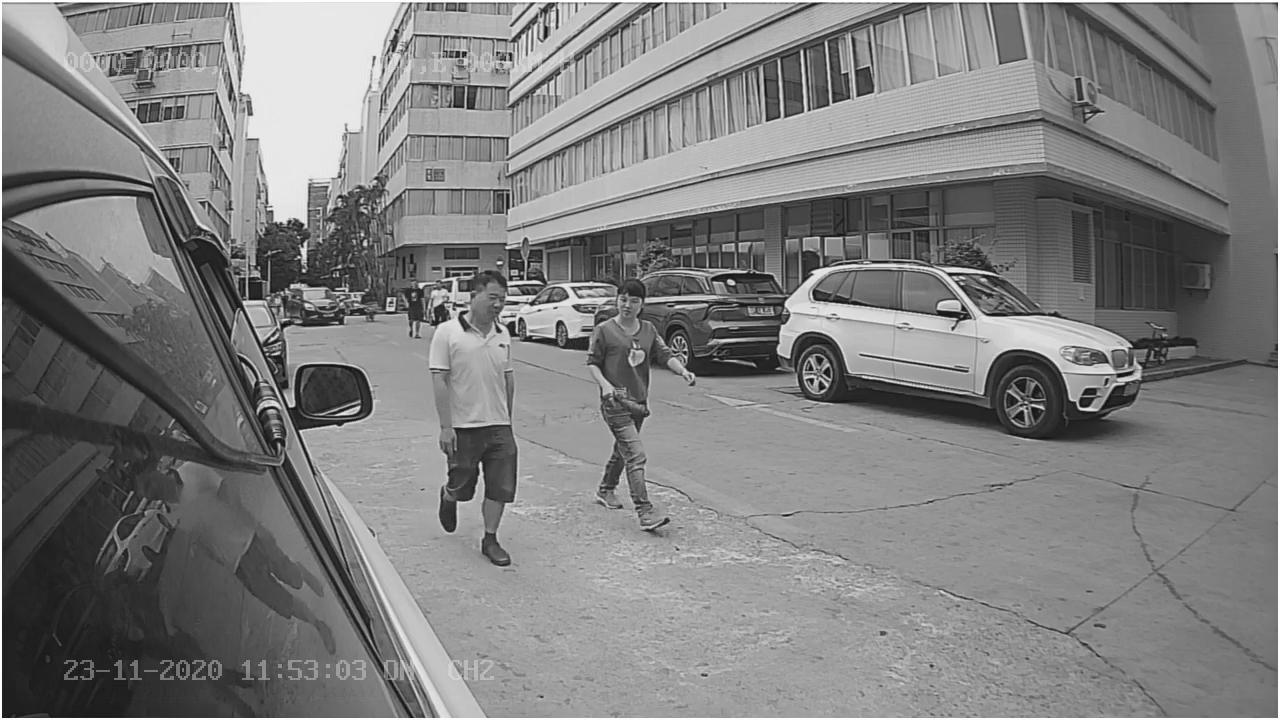person: (421, 266, 523, 561), (585, 278, 678, 518)
